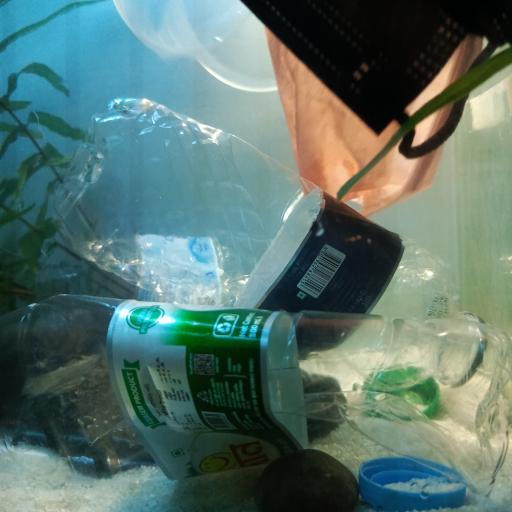bottle_cap: (358, 454, 467, 508), (365, 365, 441, 418)
mask: (266, 0, 482, 204), (243, 0, 512, 156)
plastic_bottle: (66, 100, 494, 388), (5, 291, 509, 506), (35, 234, 452, 322)
plastic_cup: (113, 0, 280, 93)
